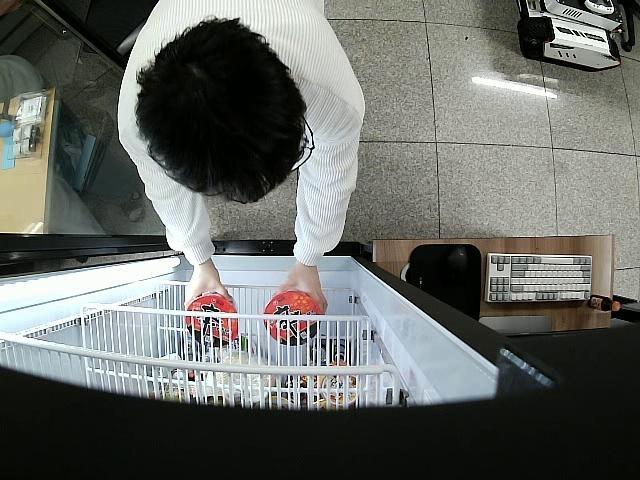01_ShinRamen_L: (262, 291, 322, 347), (186, 294, 240, 348)
